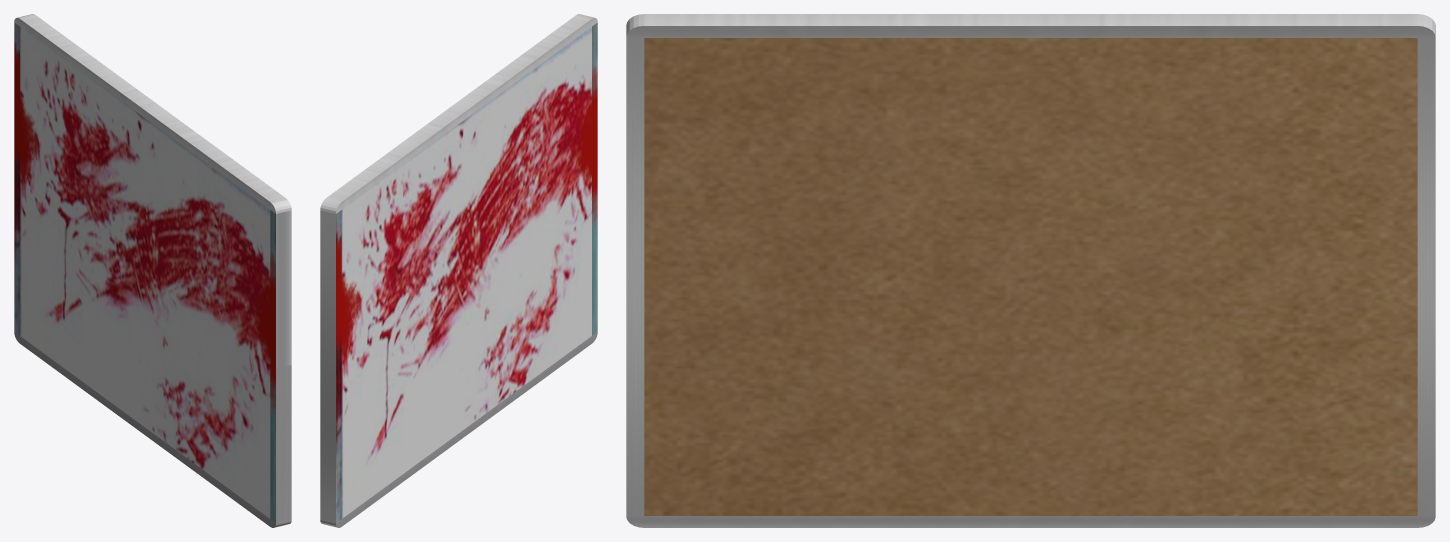
File: AuthenticAndySign.fbx
3 views of the same model, side by side, from view 1: azimuth 30°, elevation 25°; view 2: azimuth 150°, elevation 25°; view 3: azimuth 270°, elevation 25° (orthographic). The views are drawn at different scales.
Parts seen in each view (by area): view 1: AndySign; view 2: AndySign; view 3: AndySign.
Part boxes in pixels (bbox=[...]): AndySign: bbox=[14, 14, 291, 527]; AndySign: bbox=[320, 14, 597, 527]; AndySign: bbox=[626, 14, 1435, 527].
Bounding box in the file's own units: 0.0136 × 0.2689 × 0.3929.
